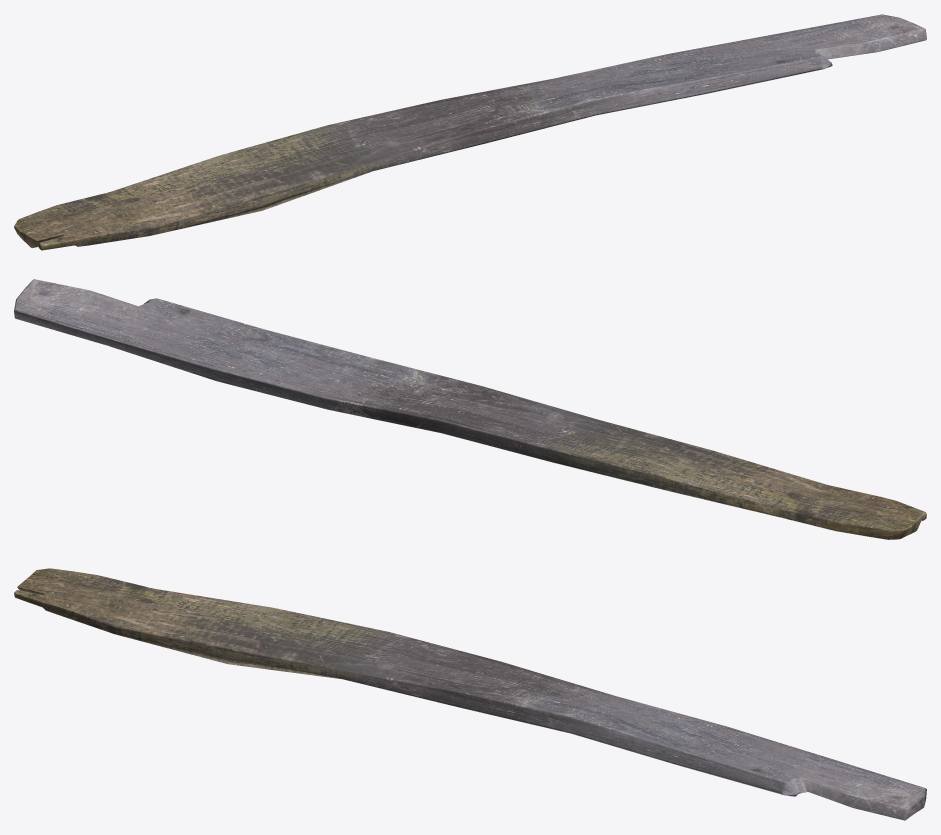
Rendered from SM_WoodPlank_01_04.fbx.
The picture shows the model from 3 angles, top to bottom: view 1: azimuth 30°, elevation 25°; view 2: azimuth 150°, elevation 25°; view 3: azimuth 330°, elevation 25°; orthographic projection. The views are drawn at different scales.
Visible parts, largest first — view 1: sm_WoodPlank_01_04_LOD0; view 2: sm_WoodPlank_01_04_LOD0; view 3: sm_WoodPlank_01_04_LOD0.
Part boxes in pixels (bbox=[...]): sm_WoodPlank_01_04_LOD0: bbox=[14, 14, 926, 250]; sm_WoodPlank_01_04_LOD0: bbox=[14, 279, 926, 539]; sm_WoodPlank_01_04_LOD0: bbox=[14, 568, 926, 820].
Size of the model in its own units: 16.61 by 148 by 4.63.
